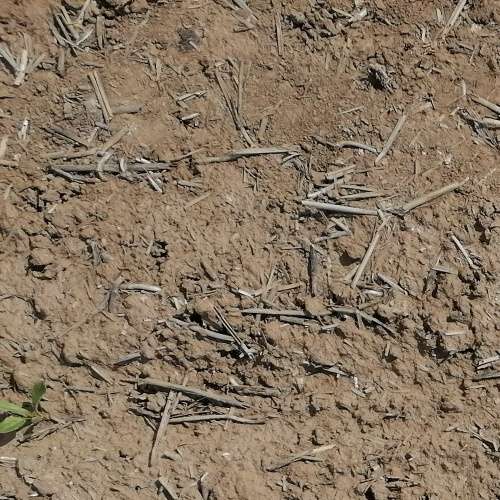beet: (0, 380, 48, 435)
